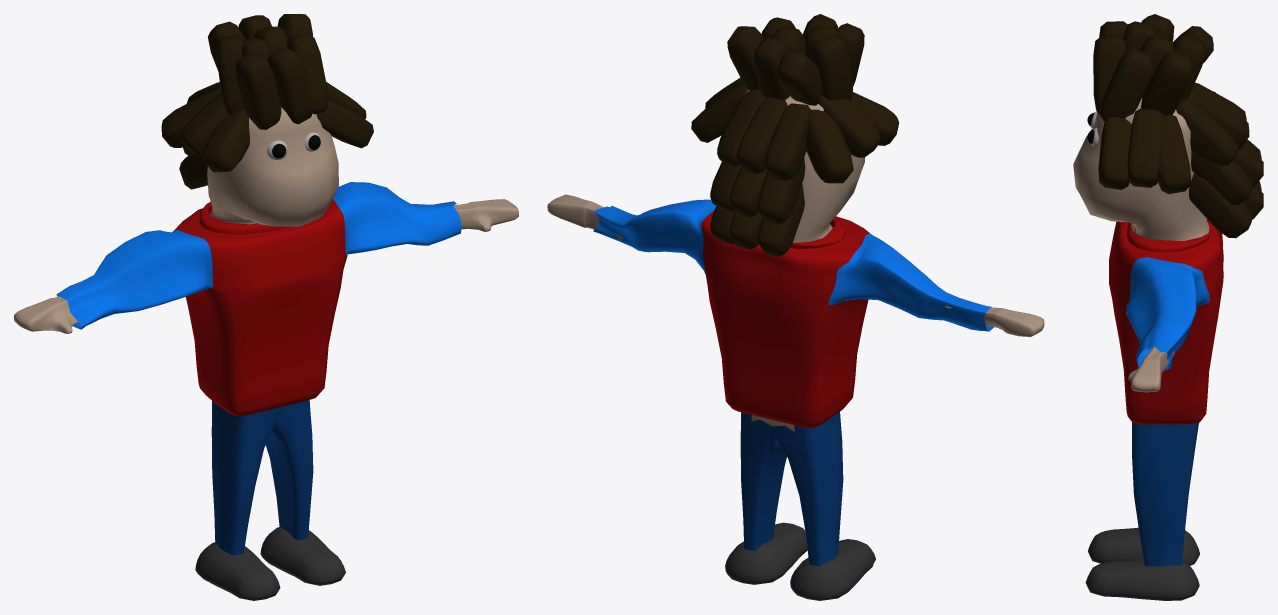
File: ScriptChar.fbx
3 renders of one model, left to right at view 1: azimuth 30°, elevation 25°; view 2: azimuth 150°, elevation 25°; view 3: azimuth 270°, elevation 25°, orthographic.
Visible parts, largest first — view 1: Shirt, ScriptChar, Geo_Hair, LeftShoe, RightShoe; view 2: Shirt, Geo_Hair, ScriptChar, RightShoe, LeftShoe; view 3: Geo_Hair, Shirt, ScriptChar, LeftShoe, RightShoe.
Part boxes in pixels (x1,y1,x2,y2): Shirt: [56, 182, 461, 415]; ScriptChar: [14, 107, 518, 555]; Geo_Hair: [161, 14, 373, 189]; LeftShoe: [260, 527, 345, 585]; RightShoe: [195, 542, 280, 600]; Shirt: [593, 199, 993, 428]; Geo_Hair: [691, 14, 898, 256]; ScriptChar: [547, 89, 1044, 566]; RightShoe: [790, 539, 875, 600]; LeftShoe: [725, 522, 807, 584]; Geo_Hair: [1093, 14, 1263, 238]; Shirt: [1109, 219, 1223, 424]; ScriptChar: [1073, 98, 1209, 566]; LeftShoe: [1085, 559, 1199, 600]; RightShoe: [1088, 527, 1199, 565].
Bounding box in the file's own units: 410 × 433 × 138.
